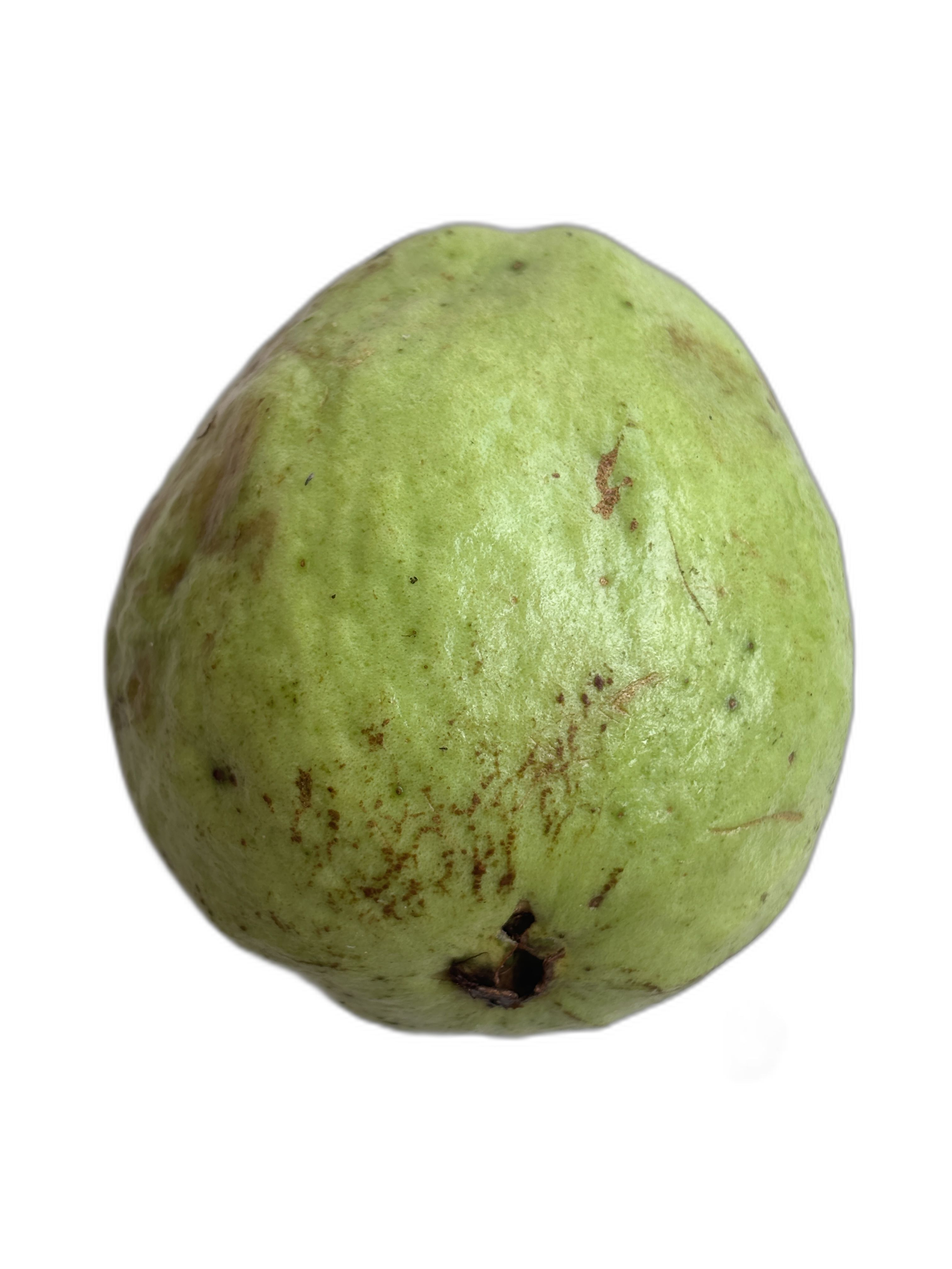guava: (175, 57, 804, 1117)
